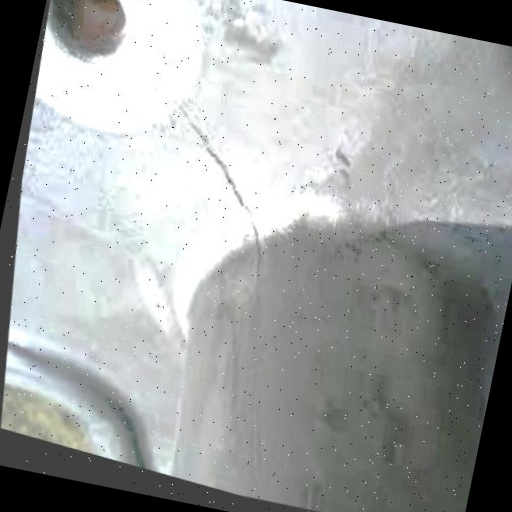crack: (119, 77, 317, 315)
